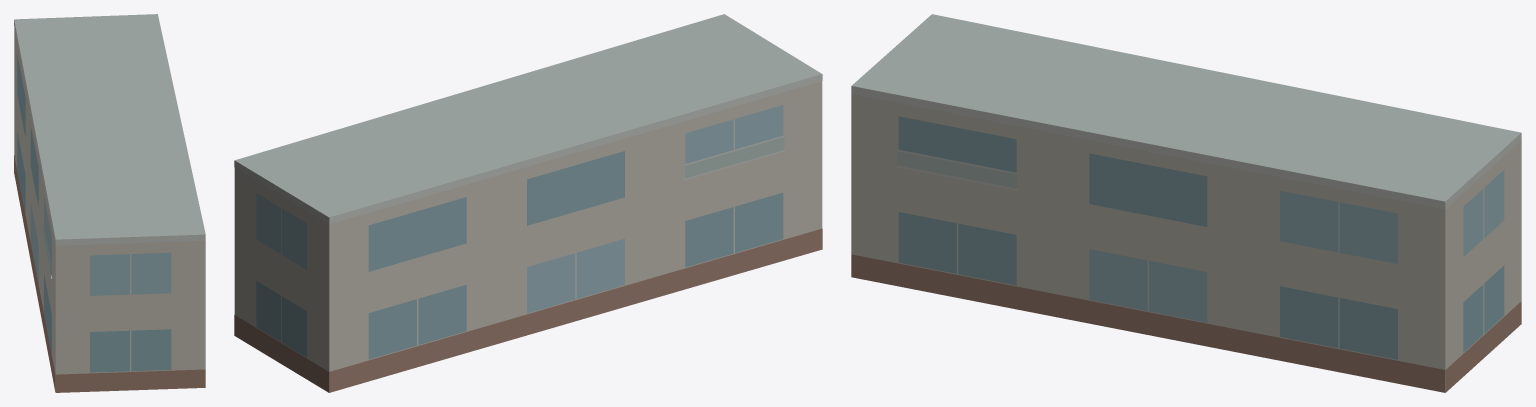
Rendered from survey-upis-32903875.glb.
3 renders of one model, left to right at view 1: azimuth 30°, elevation 25°; view 2: azimuth 150°, elevation 25°; view 3: azimuth 270°, elevation 25°, orthographic. The views are drawn at different scales.
Visible parts, largest first — view 1: survey-upis-32903875.tmp; view 2: survey-upis-32903875.tmp; view 3: survey-upis-32903875.tmp.
Boxes of the visible parts, left/top/right/bottom form: survey-upis-32903875.tmp: left=14, top=14, right=205, bottom=392; survey-upis-32903875.tmp: left=234, top=14, right=822, bottom=392; survey-upis-32903875.tmp: left=851, top=14, right=1521, bottom=392.
Size of the model in its own units: 12.84 by 6.1 by 19.38.
